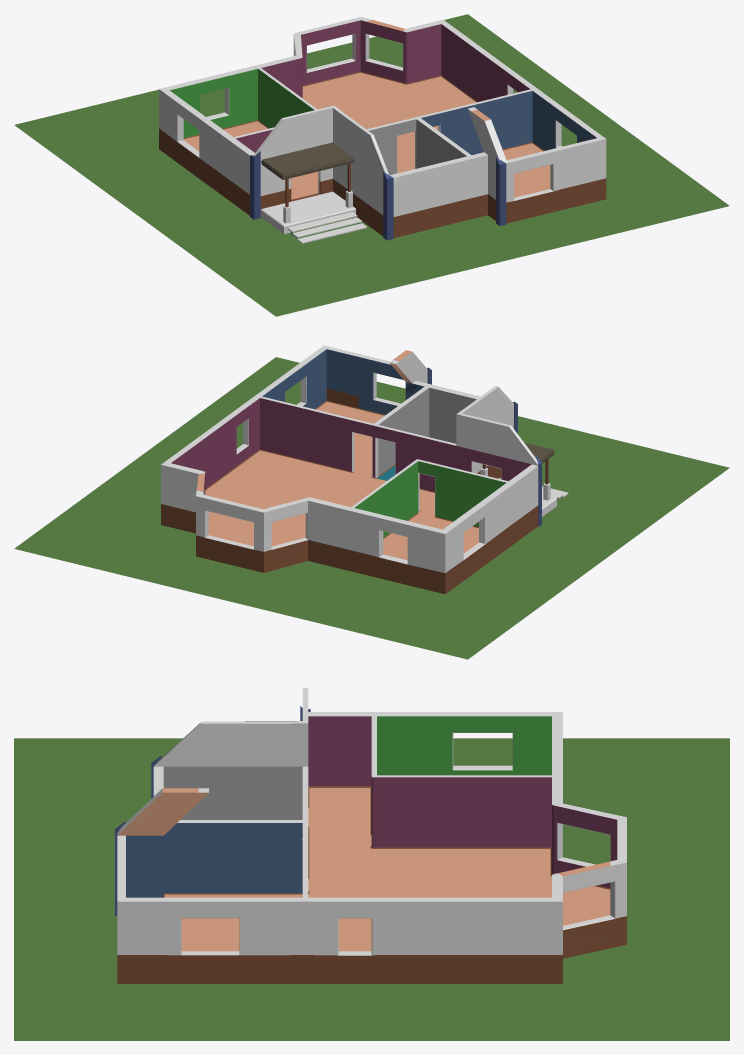
Rendered from house.fbx.
3 views of the same model, one above another, from view 1: azimuth 30°, elevation 25°; view 2: azimuth 150°, elevation 25°; view 3: azimuth 270°, elevation 25° (orthographic). The views are drawn at different scales.
Parts seen in each view (by area): view 1: house2; view 2: house2; view 3: house2.
Part boxes in pixels (x1,y1,x2,y2): house2: (14,14,729,316); house2: (14,345,729,659); house2: (14,688,729,1040).
Size of the model in its own units: 35.42 by 7.3 by 35.42.
